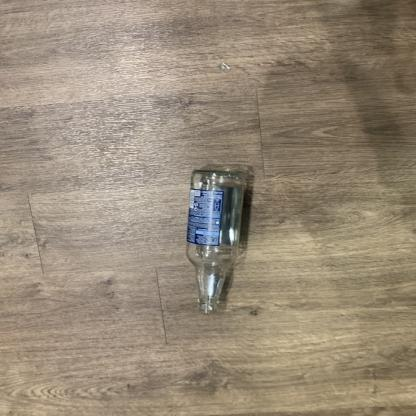trash: (186, 168, 246, 319)
